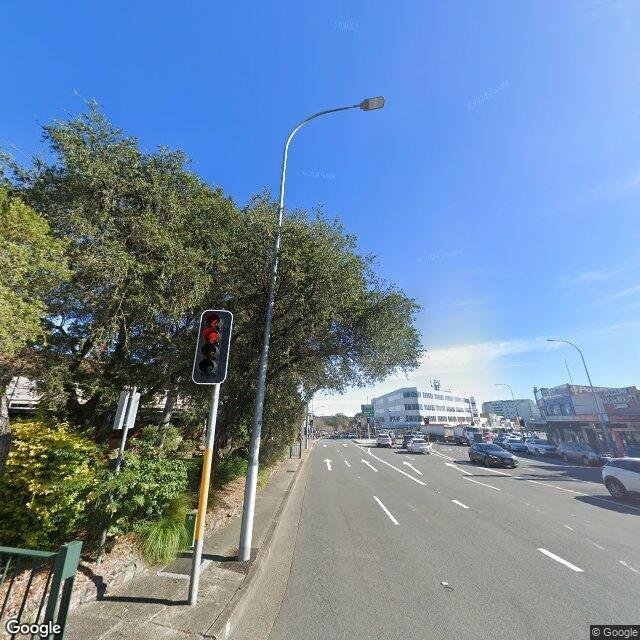steel-pole: (237, 139, 290, 563), (187, 385, 221, 607), (578, 349, 615, 457), (510, 388, 514, 400), (368, 423, 369, 438)
streetlight: (288, 95, 387, 139), (547, 338, 578, 349), (494, 383, 510, 388)
traffic-light: (193, 310, 233, 384), (424, 418, 429, 424), (310, 419, 314, 426), (367, 418, 370, 423), (358, 422, 361, 427)
